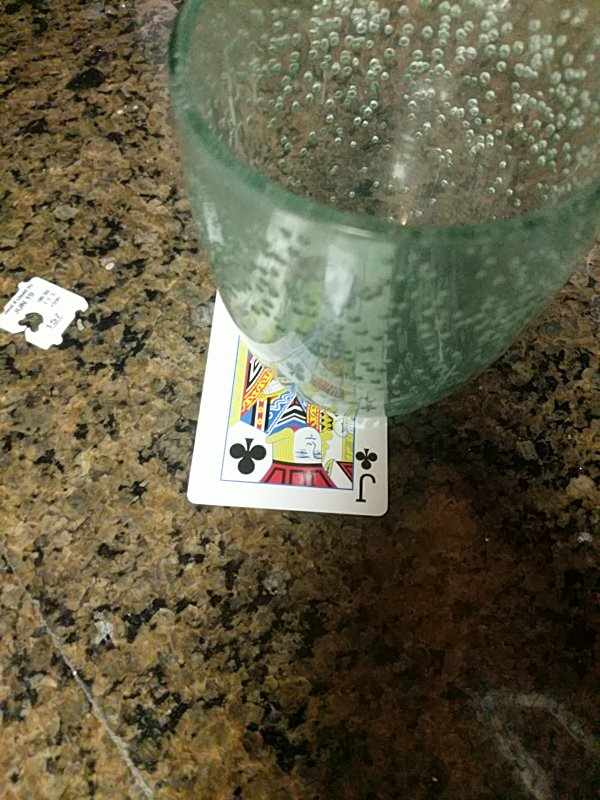Clubs: (183, 219, 391, 519)
